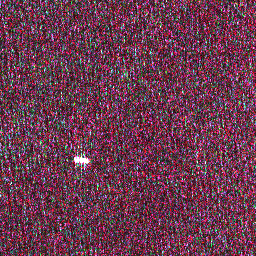ship: (72, 155, 91, 165)
